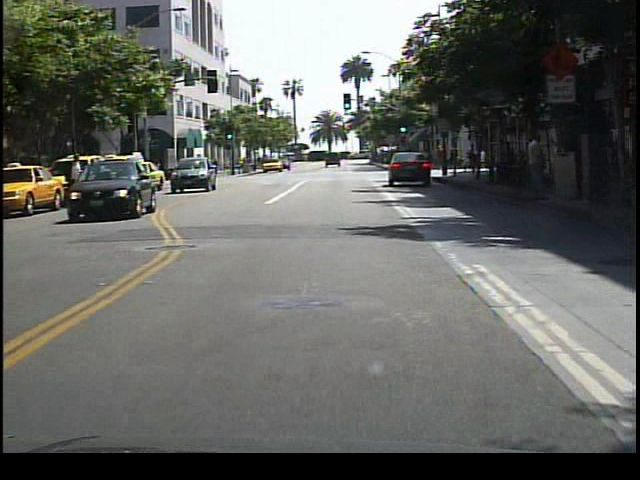person: (522, 129, 551, 206), (67, 148, 88, 208)
